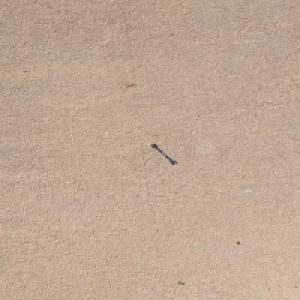Wrench: (150, 143, 177, 165)
